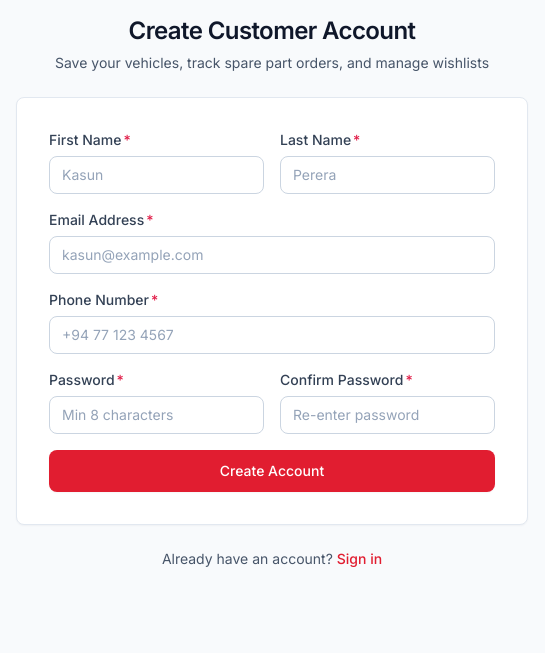
Test: MOD-01 Authentication UI Tests › Renders customer register form with password mismatch validation and NO admin role option
This screenshot has width=545, height=653.
Expected: the heading "Create Customer Account" is shown, x1=128 y1=16 x2=415 y2=45
Note: Try submit empty
Step 1. Click the button "Create Account" → [272, 471], box x1=49 y1=450 x2=495 y2=492
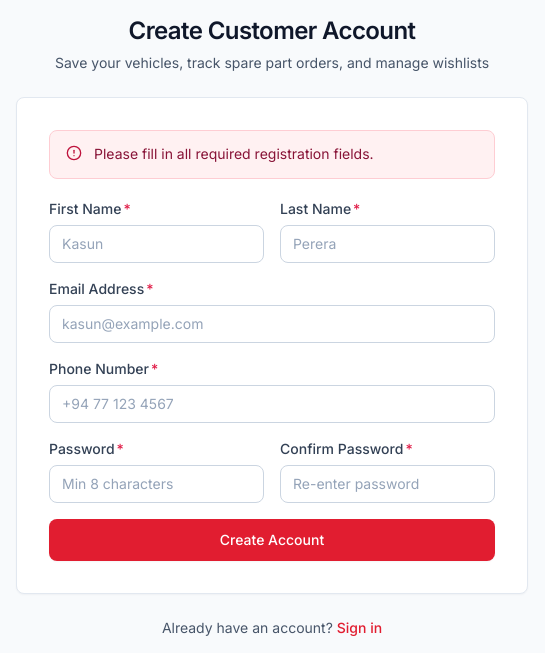
Now the message "Please fill in all required registration fields." is shown, box x1=49 y1=130 x2=495 y2=179
Now the text "Please fill in all required registration fields." is shown, box x1=94 y1=145 x2=374 y2=162
Note: Fill with password mismatch
Step 2. Type "Sunil" into the field labelled "First Name*" → [156, 244], box x1=49 y1=225 x2=264 y2=263
Step 3. Type "Silva" into the field labelled "Last Name*" → [388, 244], box x1=280 y1=225 x2=495 y2=263
Step 4. Type "sunil@example.com" into the field labelled "Email Address*" → [272, 324], box x1=49 y1=305 x2=495 y2=343
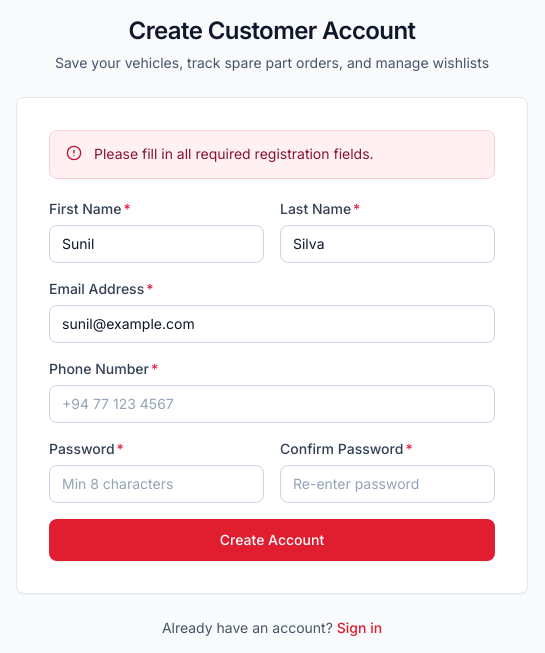
Step 5. Type "+94771234567" into the field labelled "Phone Number*" → [272, 404], box x1=49 y1=385 x2=495 y2=423
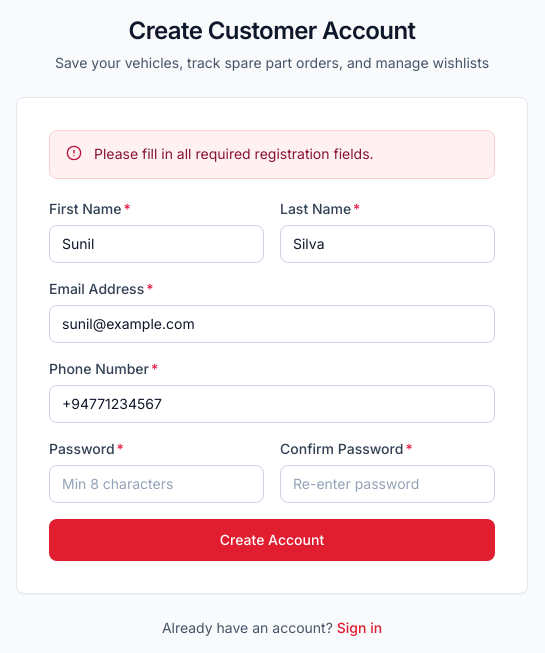
Step 6. Type "Password123" into the password field labelled "Password*" → [156, 484], box x1=49 y1=465 x2=264 y2=503
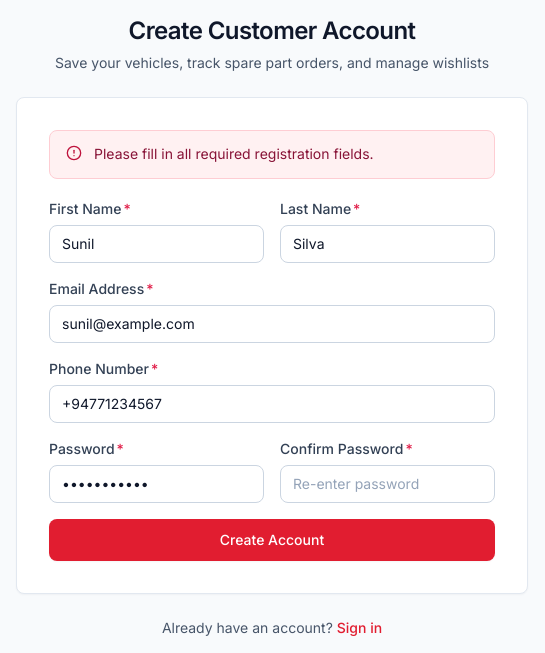
Step 7. Type "DifferentPassword123" into the password field labelled "Confirm Password*" → [388, 484], box x1=280 y1=465 x2=495 y2=503
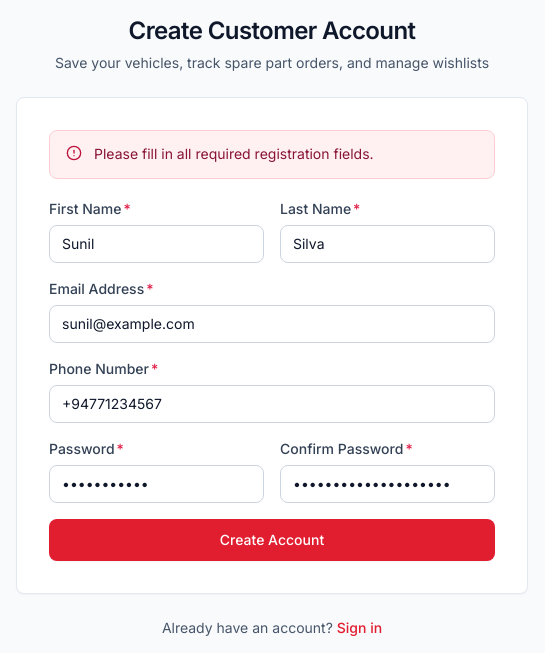
Step 8. Click the button "Create Account" → [272, 540], box x1=49 y1=519 x2=495 y2=561
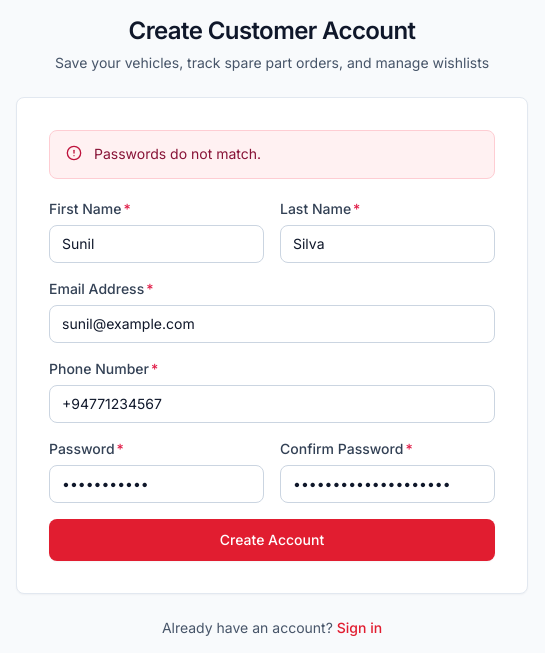
Now the text "Passwords do not match." is shown, box x1=94 y1=145 x2=261 y2=162
